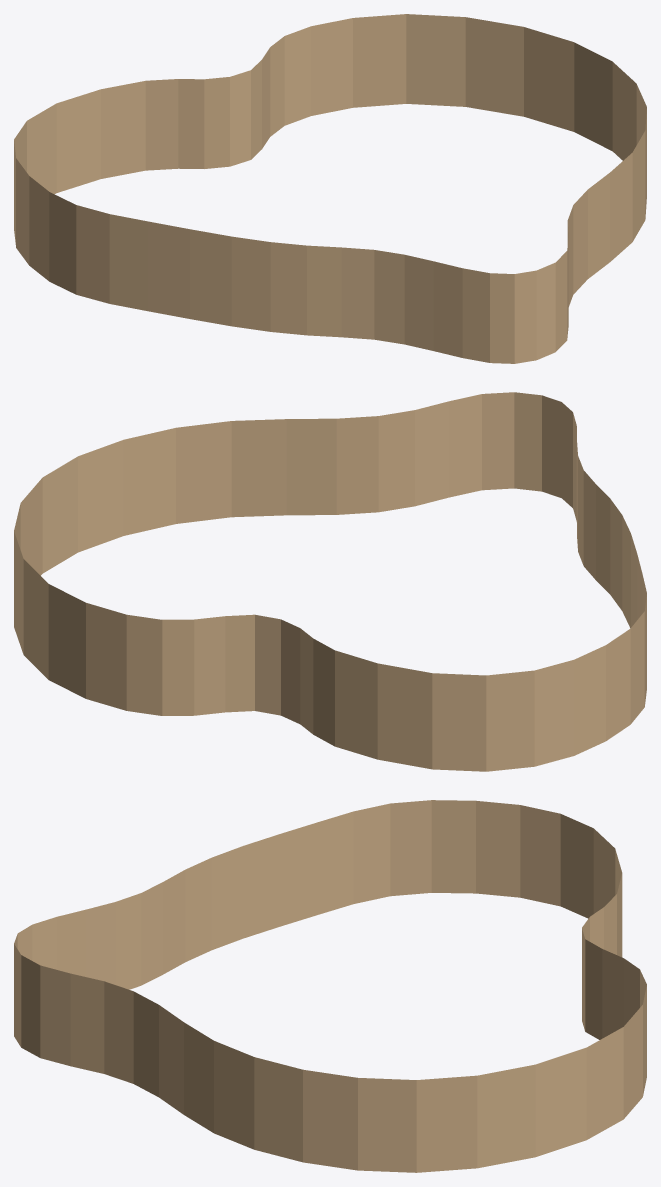
Rendered from WallIsland5.fbx.
3 views of the same model, one above another, from view 1: azimuth 30°, elevation 25°; view 2: azimuth 150°, elevation 25°; view 3: azimuth 270°, elevation 25° (orthographic). The views are drawn at different scales.
Visible parts, largest first — view 1: Plane; view 2: Plane; view 3: Plane.
Part boxes in pixels (x1,y1,x2,y2): Plane: (14, 14, 646, 363); Plane: (14, 392, 646, 771); Plane: (14, 800, 646, 1172).
Size of the model in its own units: 302 by 46.7 by 289.
